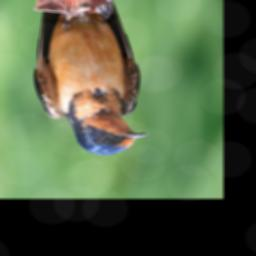Swallow: (33, 0, 148, 156)
